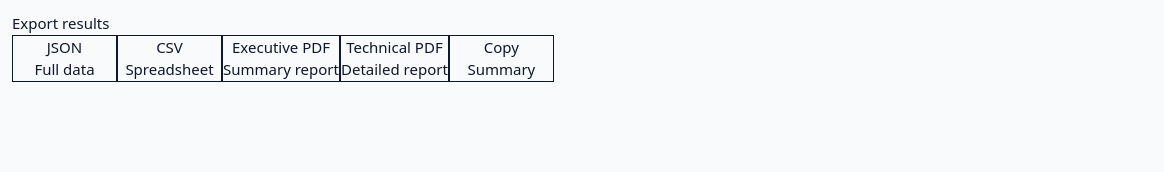
Test: ExportPanel — PDF › falls back to a generic message when there is no response
This screenshot has width=1164, height=172.
Click the button "Executive PDF Summary report" at (281, 58), box left=222, top=34, right=340, bottom=82
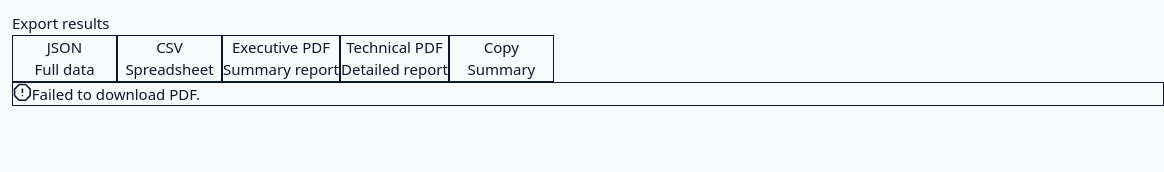
Check: the text "Failed to download PDF." is shown, box left=32, top=84, right=200, bottom=104
